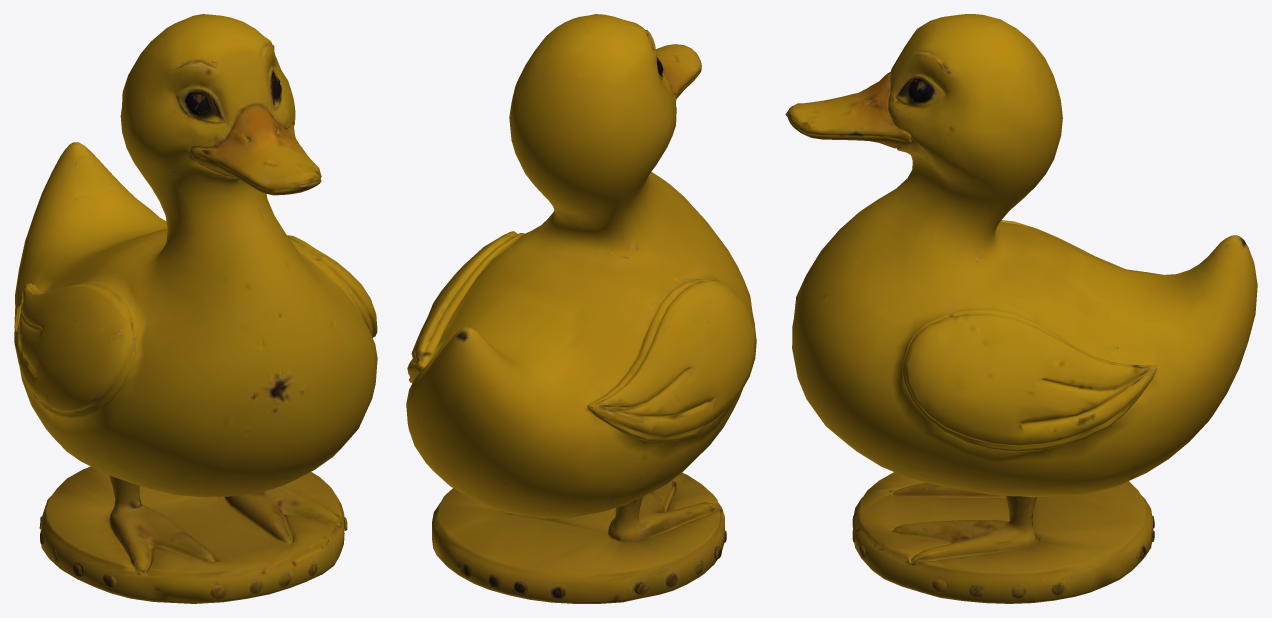
The model's file is duck.glb.
3 views of the same model, side by side, from view 1: azimuth 30°, elevation 25°; view 2: azimuth 150°, elevation 25°; view 3: azimuth 270°, elevation 25° (orthographic). The views are drawn at different scales.
Visible parts, largest first — view 1: midway-fit; view 2: midway-fit; view 3: midway-fit.
Boxes of the visible parts, left/top/right/bottom form: midway-fit: left=14, top=14, right=377, bottom=603; midway-fit: left=406, top=14, right=756, bottom=603; midway-fit: left=785, top=14, right=1257, bottom=603.
Size of the model in its own units: 0.5991 by 1 by 0.8193.
Materials: 1 (1 with a texture image).
